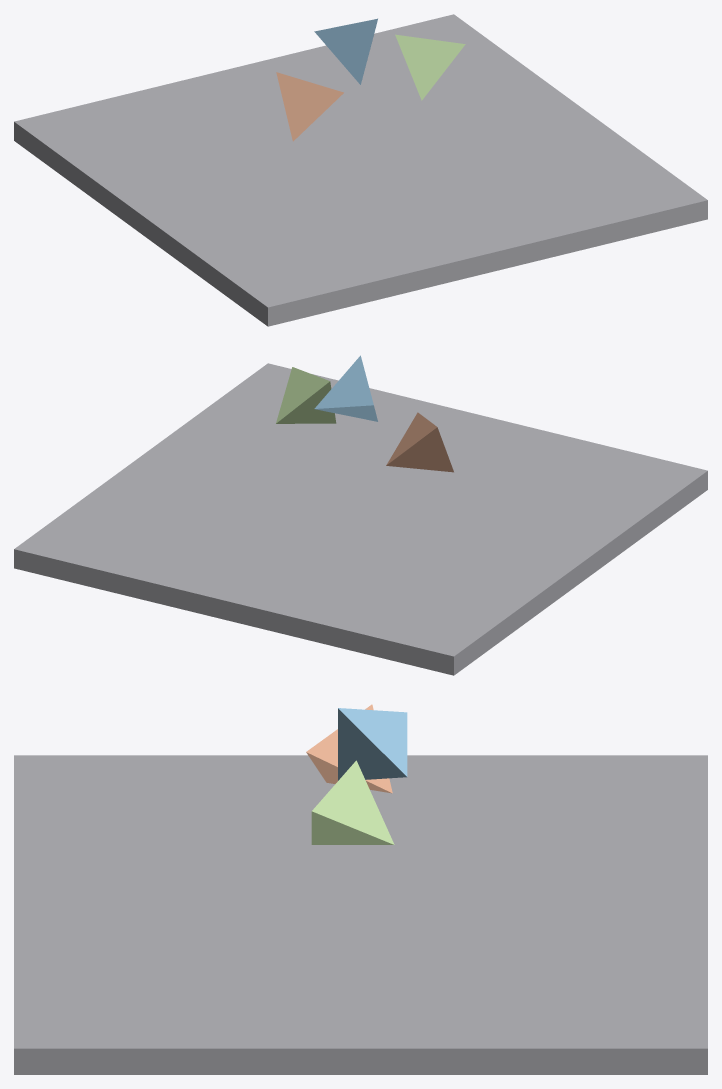
The model's file is ConvexHullDemo.gltf.
3 views of the same model, one above another, from view 1: azimuth 30°, elevation 25°; view 2: azimuth 150°, elevation 25°; view 3: azimuth 270°, elevation 25° (orthographic). The views are drawn at different scales.
Visible parts, largest first — view 1: Floor, Tetra2, Tetra0, Tetra1; view 2: Floor, Tetra0, Tetra2, Tetra1; view 3: Floor, Tetra1, Tetra2, Tetra0.
Boxes of the visible parts, <box> form: Floor: <box>14,14,707,326</box>; Tetra2: <box>395,34,465,100</box>; Tetra0: <box>276,72,343,141</box>; Tetra1: <box>314,18,377,84</box>; Floor: <box>14,363,707,675</box>; Tetra0: <box>386,412,453,472</box>; Tetra2: <box>276,367,336,423</box>; Tetra1: <box>314,355,377,421</box>; Floor: <box>14,755,707,1074</box>; Tetra1: <box>338,708,407,780</box>; Tetra2: <box>311,760,394,844</box>; Tetra0: <box>306,704,392,793</box>.
Size of the model in its own units: 12 by 4.31 by 12.
